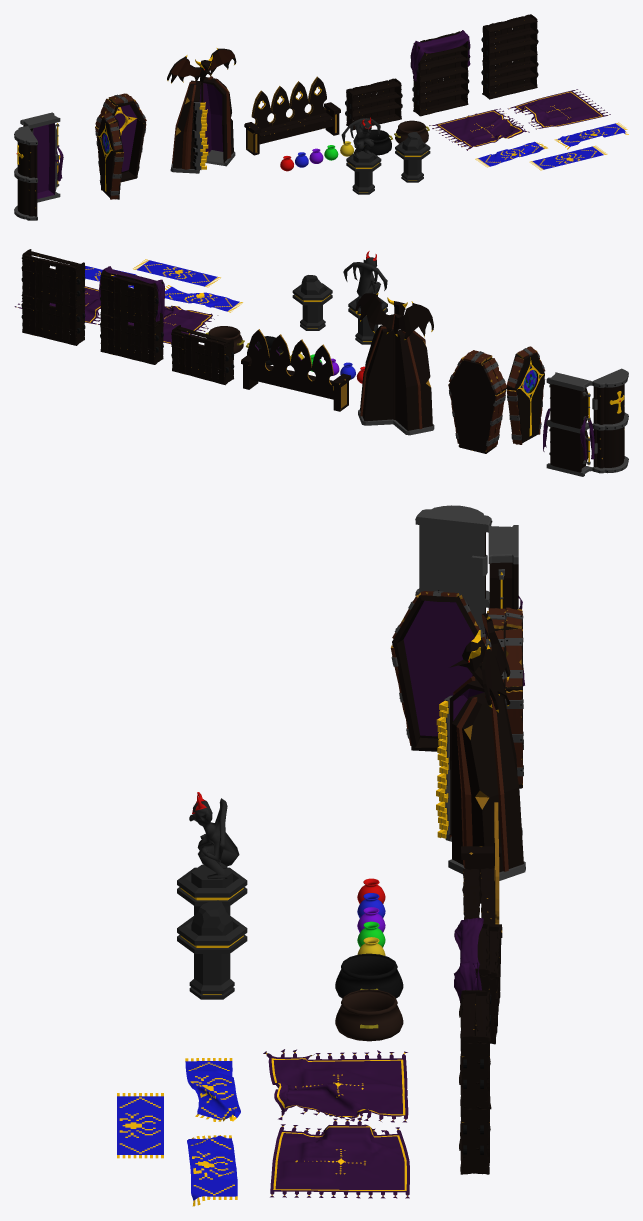
The model's file is Sarg_2_Korpus.obj.
3 renders of one model, top to bottom at view 1: azimuth 30°, elevation 25°; view 2: azimuth 150°, elevation 25°; view 3: azimuth 270°, elevation 25°, orthographic. The views are drawn at different scales.
Parts seen in each view (by area): view 1: Regal_groß_Tuch, Regal_groß, Bank, Sarg_3_R, Sarg_3_L, Body_1, Sarg_2_Body, Regal_klein, Teppich_var1, Teppich_var2, Sarg_2_Lid, Lid_1 (+8 smaller); view 2: Regal_groß_Tuch, Regal_groß, Body_1, Bank, Sarg_2_Body, Sarg_3_R, Sarg_2_Lid, Lid_1, Regal_klein, Sarg_3_L, Sarg_3_Body, Statue_var1 (+6 smaller); view 3: Sarg_3_L, Lid_1, Teppich_var1, Teppich_var2, Sarg_2_Lid, Regal_groß, Statue_var2, Statue_var1, Bank, Body_1, Teppich_Var5, Teppich_var4 (+8 smaller).
Part boxes in pixels (x1,y1,x2,y2): Regal_groß_Tuch: [410, 30, 470, 116]; Regal_groß: [481, 14, 538, 99]; Bank: [244, 76, 340, 155]; Sarg_3_R: [170, 80, 208, 173]; Sarg_3_L: [203, 76, 235, 166]; Body_1: [95, 93, 146, 182]; Sarg_2_Body: [20, 112, 63, 202]; Regal_klein: [345, 78, 402, 130]; Teppich_var1: [507, 89, 610, 129]; Teppich_var2: [429, 108, 529, 150]; Sarg_2_Lid: [14, 126, 37, 220]; Lid_1: [96, 112, 123, 199]; Regal_groß_Tuch: [99, 266, 164, 364]; Regal_groß: [21, 249, 85, 345]; Body_1: [448, 350, 506, 453]; Bank: [241, 329, 350, 411]; Sarg_2_Body: [543, 372, 594, 476]; Sarg_3_R: [393, 330, 434, 435]; Sarg_2_Lid: [592, 368, 628, 473]; Lid_1: [506, 346, 545, 444]; Regal_klein: [171, 325, 234, 385]; Sarg_3_L: [358, 325, 394, 425]; Sarg_3_Body: [355, 293, 433, 419]; Statue_var1: [343, 251, 387, 344]; Sarg_3_L: [448, 692, 525, 880]; Lid_1: [390, 590, 485, 751]; Teppich_var1: [270, 1118, 409, 1198]; Teppich_var2: [263, 1049, 408, 1122]; Sarg_2_Lid: [415, 505, 492, 644]; Regal_groß: [459, 990, 491, 1174]; Statue_var2: [177, 900, 247, 999]; Statue_var1: [177, 792, 247, 915]; Bank: [461, 802, 502, 937]; Body_1: [486, 607, 523, 788]; Teppich_Var5: [117, 1093, 163, 1158]; Teppich_var4: [187, 1135, 237, 1206].
Bounding box in the file's own units: 18.24 × 3.67 × 5.87.
